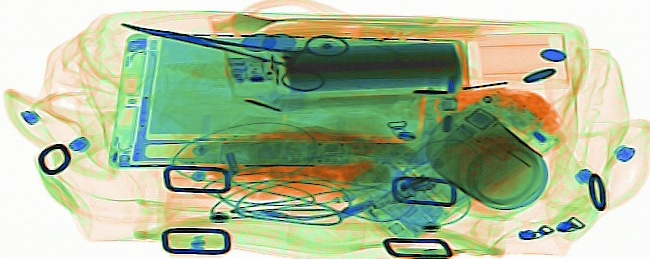scissors: (117, 21, 350, 92)
